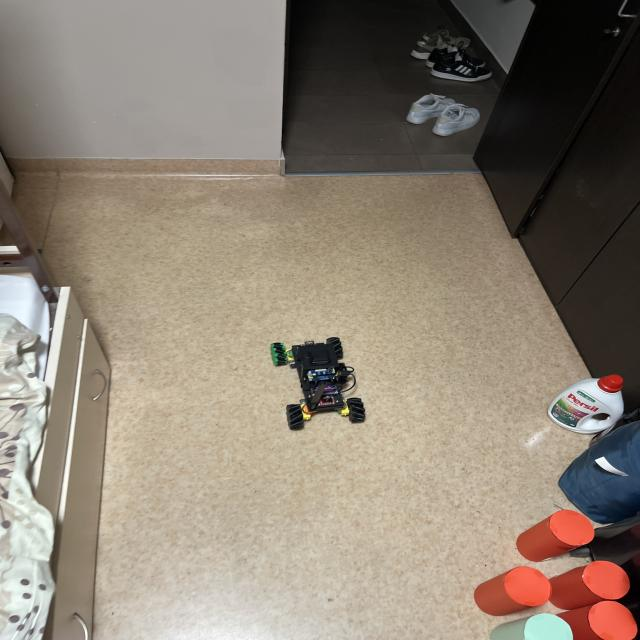robot: (271, 337, 365, 430)
